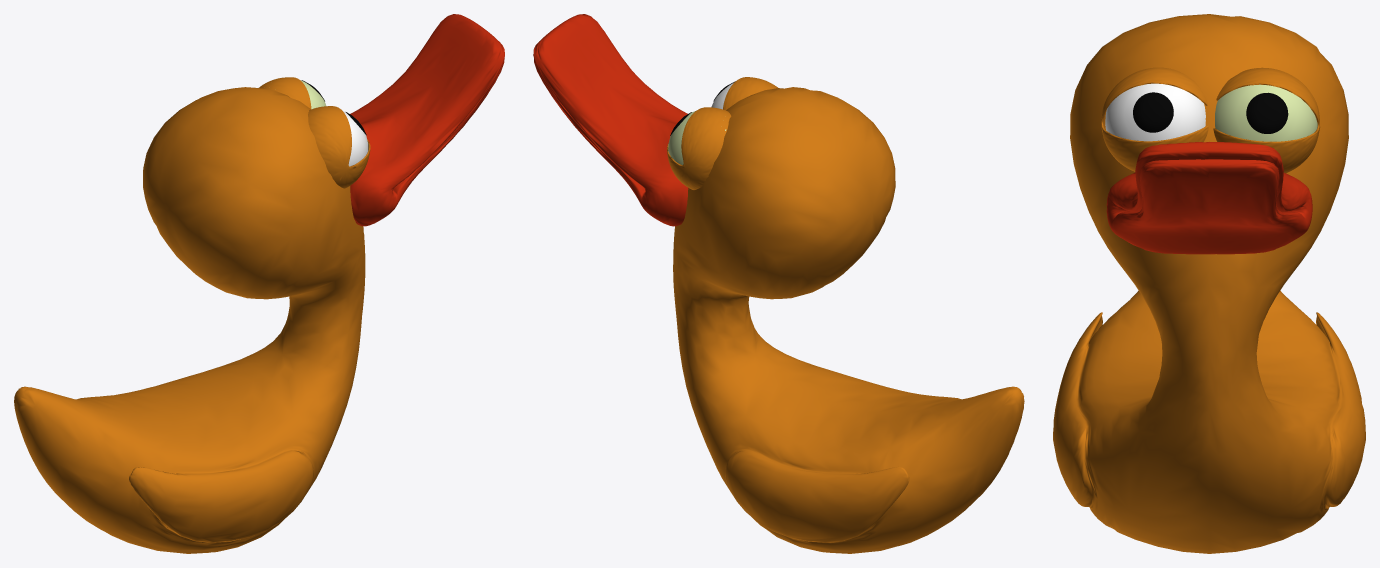
Rendered from pato turbo.obj.
3 views of the same model, side by side, from view 1: azimuth 30°, elevation 25°; view 2: azimuth 150°, elevation 25°; view 3: azimuth 270°, elevation 25° (orthographic). The views are drawn at different scales.
Visible parts, largest first — view 1: Box001, Box002, Sphere002, Sphere004, Sphere001; view 2: Box001, Box002, Sphere004, Sphere002; view 3: Box001, Box002, Sphere001, Sphere003, Sphere004, Sphere002, punto_negro001, punto_negro.
Boxes of the visible parts, left/top/right/bottom form: Box001: left=14, top=87, right=365, bottom=553; Box002: left=350, top=14, right=504, bottom=226; Sphere002: left=308, top=106, right=370, bottom=188; Sphere004: left=259, top=77, right=311, bottom=108; Sphere001: left=343, top=111, right=368, bottom=166; Box001: left=673, top=87, right=1024, bottom=553; Box002: left=533, top=14, right=688, bottom=226; Sphere004: left=667, top=107, right=731, bottom=189; Sphere002: left=723, top=77, right=777, bottom=110; Box001: left=1053, top=14, right=1365, bottom=553; Box002: left=1106, top=142, right=1312, bottom=254; Sphere001: left=1105, top=83, right=1205, bottom=141; Sphere003: left=1215, top=84, right=1317, bottom=141; Sphere004: left=1213, top=67, right=1320, bottom=173; Sphere002: left=1101, top=67, right=1208, bottom=171; punto_negro001: left=1246, top=92, right=1288, bottom=133; punto_negro: left=1133, top=92, right=1173, bottom=132.
Bounding box in the file's own units: 59.63 × 53.63 × 26.43.
